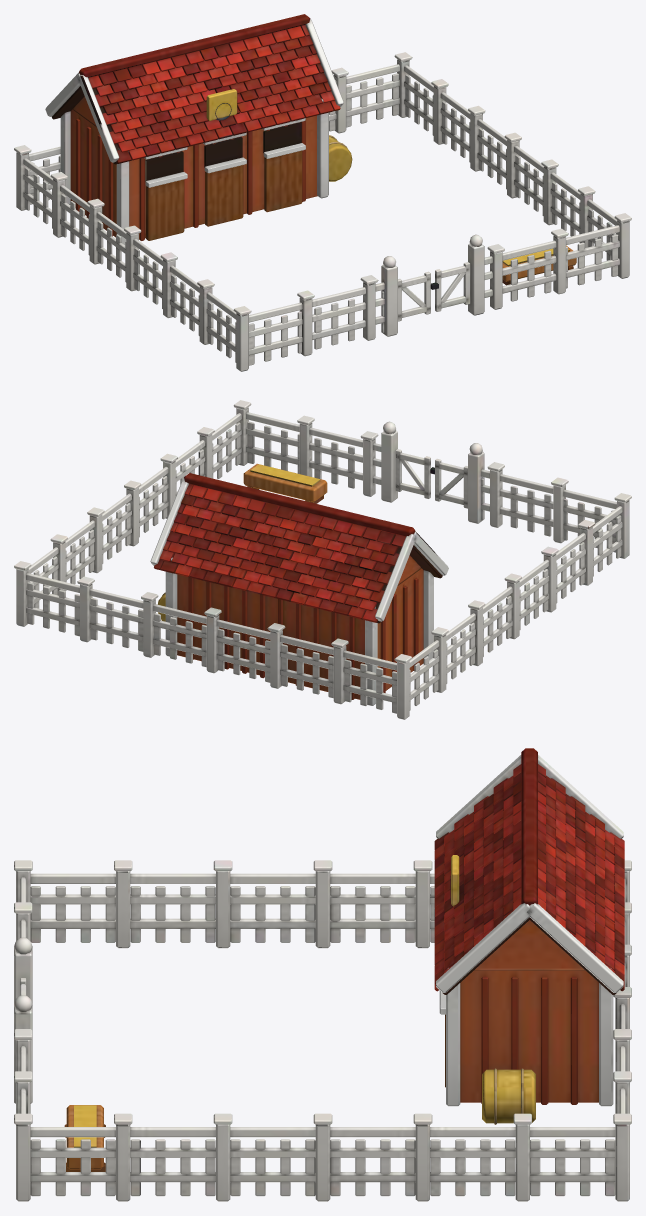
The model's file is stable.glb.
3 views of the same model, one above another, from view 1: azimuth 30°, elevation 25°; view 2: azimuth 150°, elevation 25°; view 3: azimuth 270°, elevation 25° (orthographic). The views are drawn at different scales.
Parts seen in each view (by area): view 1: stable; view 2: stable; view 3: stable.
Boxes of the visible parts, box(x1,y1,x2,y2) form: stable: box(14, 14, 631, 371); stable: box(14, 400, 631, 719); stable: box(14, 748, 631, 1201).
Bounding box in the file's own units: 2.99 × 1.16 × 2.99.
1 material, 1 textured.
